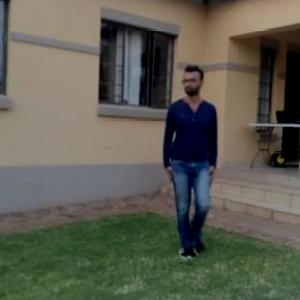follow: (160, 59, 222, 267)
